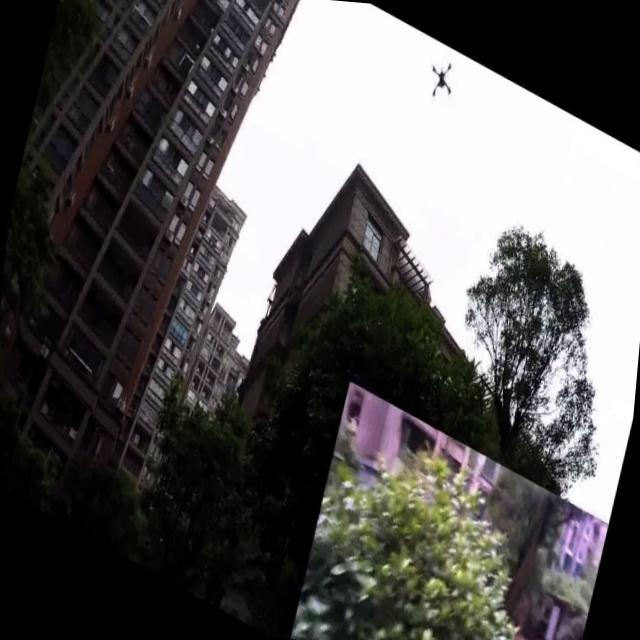drone: (423, 46, 460, 112)
